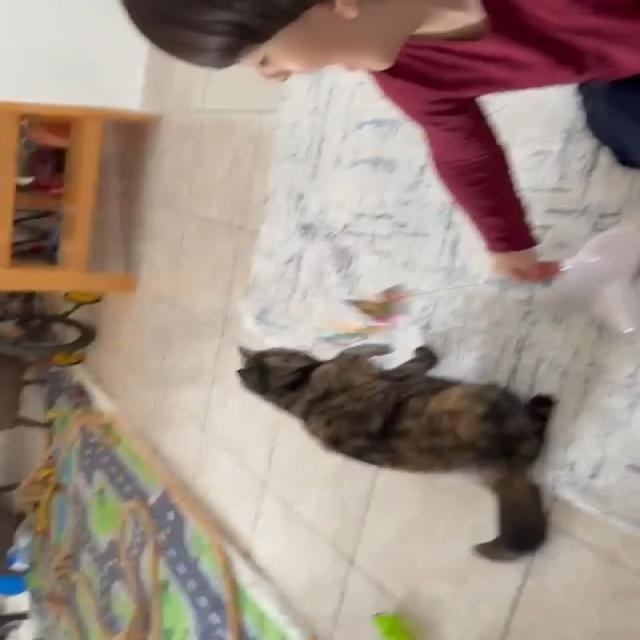authorized: (233, 342, 559, 560)
